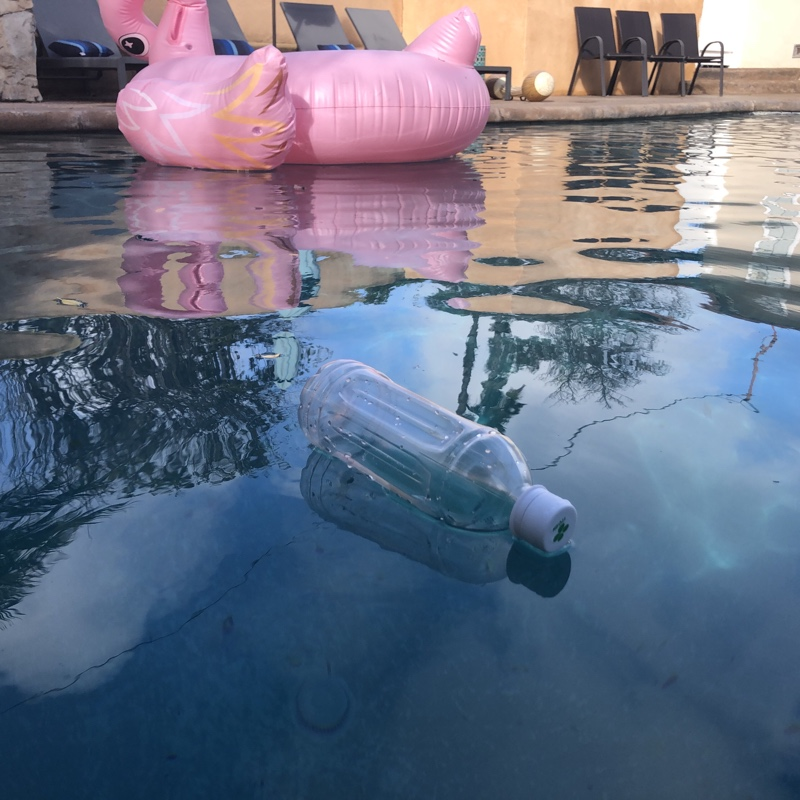Plastic Bottle: (295, 357, 582, 564)
